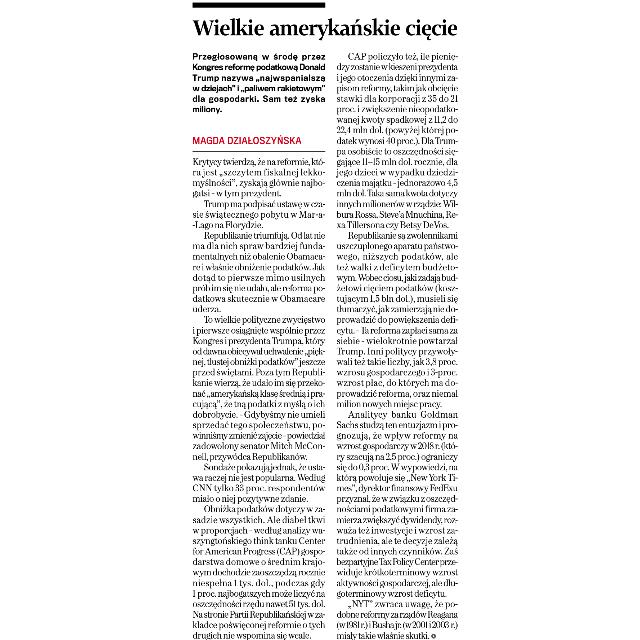author: (189, 131, 307, 149)
body: (334, 48, 460, 640), (188, 154, 328, 640)
lead: (188, 51, 332, 118)
title: (192, 10, 460, 42)
